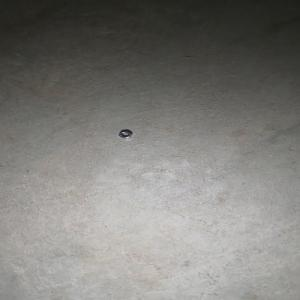Nut: (117, 128, 131, 136)
